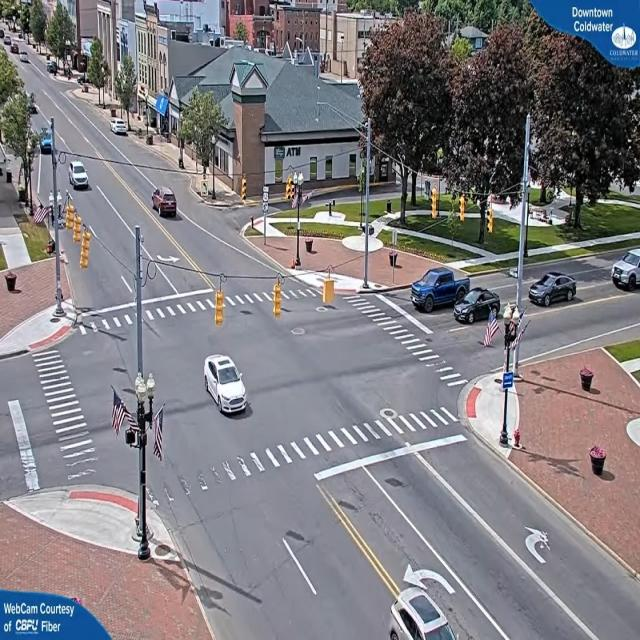car: (205, 353, 251, 415), (412, 268, 467, 314), (530, 270, 578, 306), (454, 287, 500, 324), (611, 249, 640, 291), (152, 188, 180, 217), (69, 159, 90, 190), (40, 121, 56, 153), (112, 120, 129, 136), (20, 53, 30, 62)
